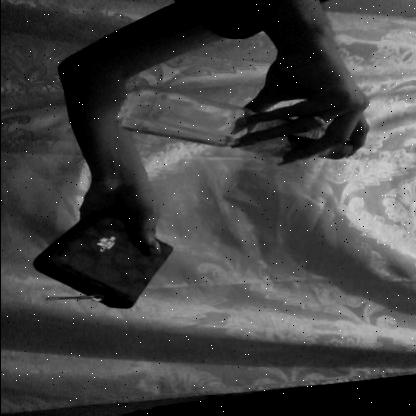Plastic Bottle: (113, 88, 362, 174)
